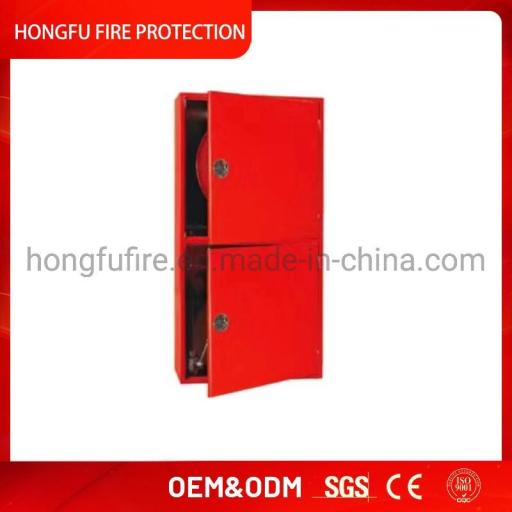fire_hose: (169, 88, 330, 405)
